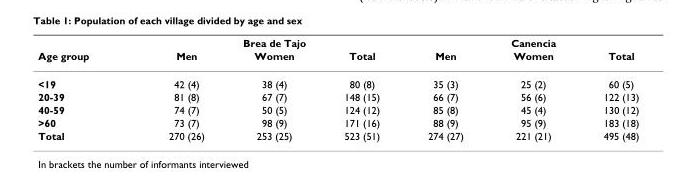table: (37, 36, 638, 141)
table column: (128, 36, 228, 141), (37, 36, 128, 141), (228, 36, 318, 141), (487, 36, 577, 141), (318, 36, 403, 141), (403, 36, 487, 141), (577, 36, 638, 141)
table column header: (37, 36, 638, 69)
table row: (37, 69, 638, 90), (37, 49, 638, 69), (37, 36, 638, 49), (37, 90, 638, 103), (37, 115, 638, 128), (37, 128, 638, 141), (37, 103, 638, 115)
table spanning cell: (128, 36, 403, 49), (403, 36, 638, 49), (37, 36, 128, 69)
